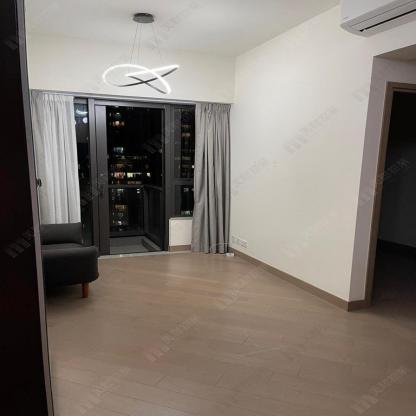AC: (339, 0, 415, 37)
Sofa: (39, 222, 98, 301)
